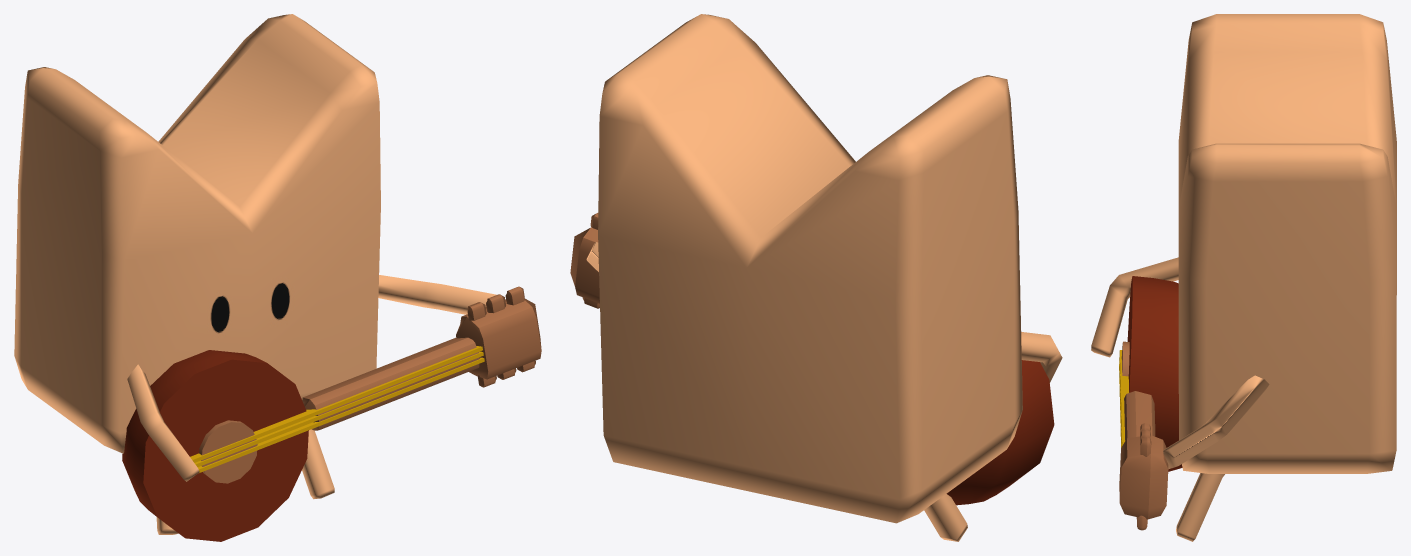
File: EnemyNatureWoodTinyGuitarLow.fbx
3 views of the same model, side by side, from view 1: azimuth 30°, elevation 25°; view 2: azimuth 150°, elevation 25°; view 3: azimuth 270°, elevation 25° (orthographic). The views are drawn at different scales.
Parts seen in each view (by area): view 1: group3; view 2: group3; view 3: group3.
Part boxes in pixels (left/top/right/bottom): group3: left=14, top=14, right=541, bottom=541; group3: left=570, top=14, right=1062, bottom=541; group3: left=1091, top=14, right=1396, bottom=541.
Bounding box in the file's own units: 0.8436 × 0.8221 × 0.5282.
